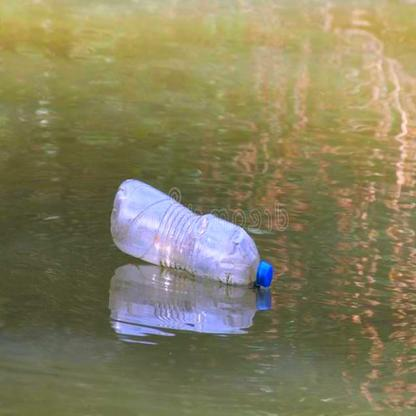plastic bottle: (110, 178, 273, 287)
